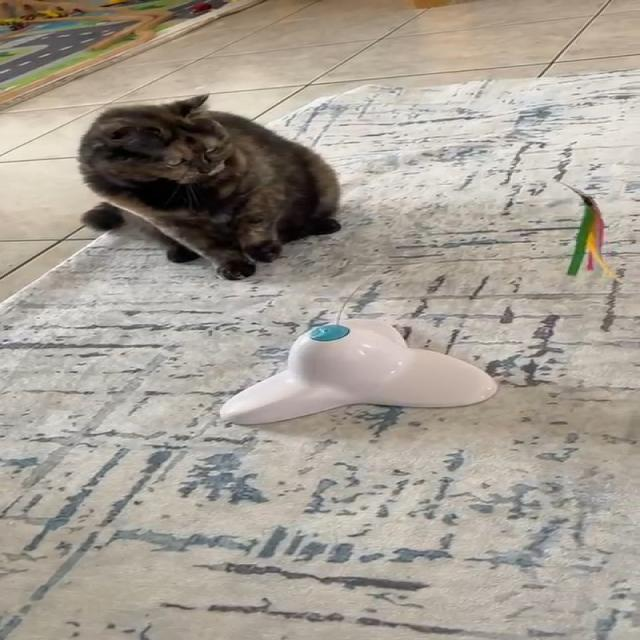authorized: (76, 92, 341, 280)
